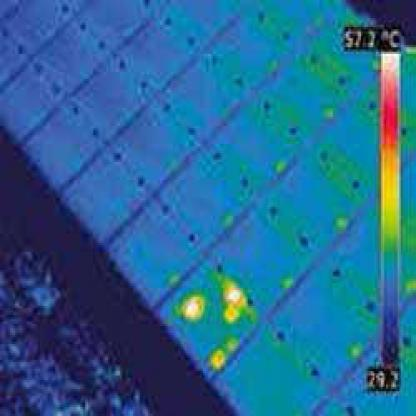Defects: (185, 297, 208, 328), (226, 288, 240, 301)
